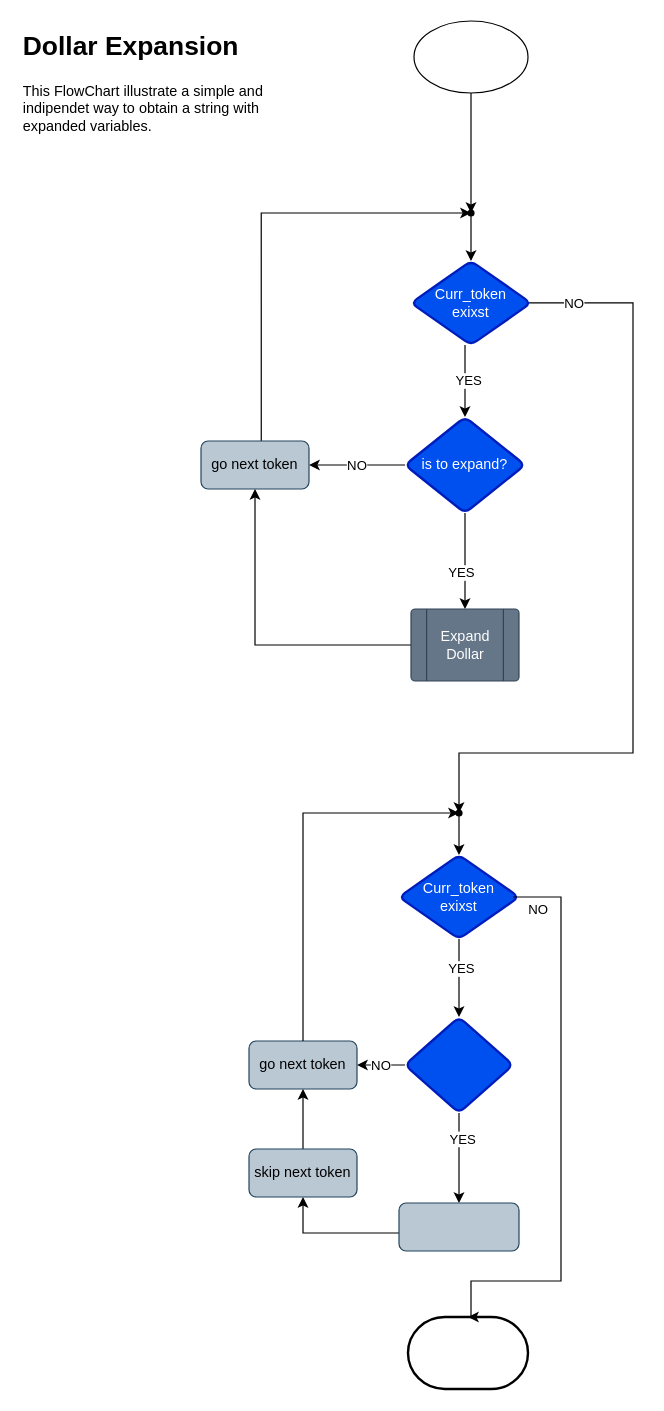
The diagram is 664 pixels wide and 1411 high, and some of its shapes have lost their labels. Each missing label, with the box of its shape:
concat to the next?: (403, 1015, 514, 1114)
Concatenate: (398, 1202, 519, 1251)
END: (406, 1315, 529, 1390)
START: (413, 20, 528, 93)
